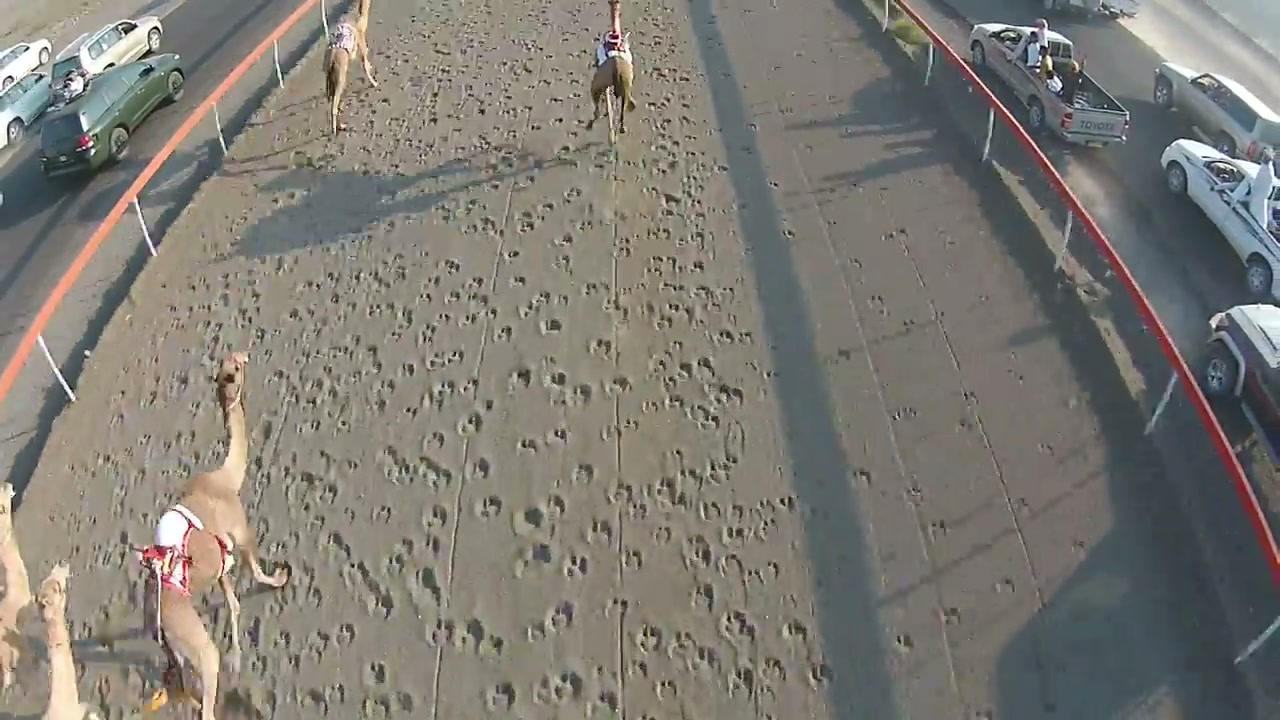animal_footprint: (486, 67, 726, 698), (226, 97, 464, 704)
